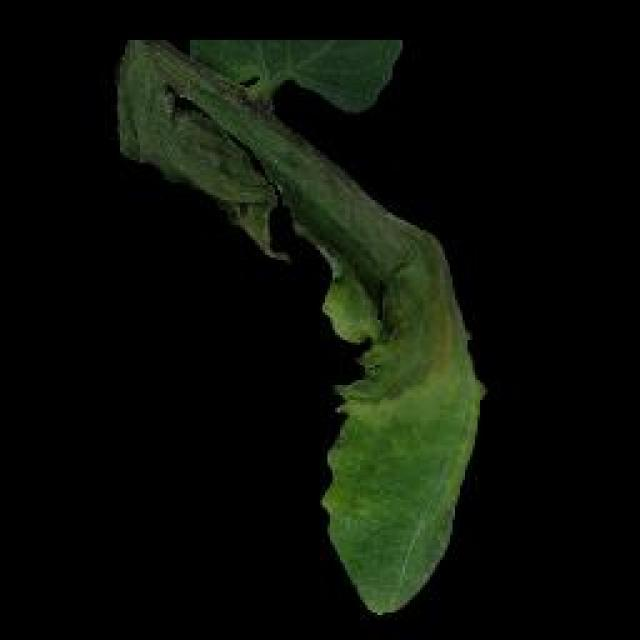Tomato late blight leaf: (117, 35, 496, 617)
